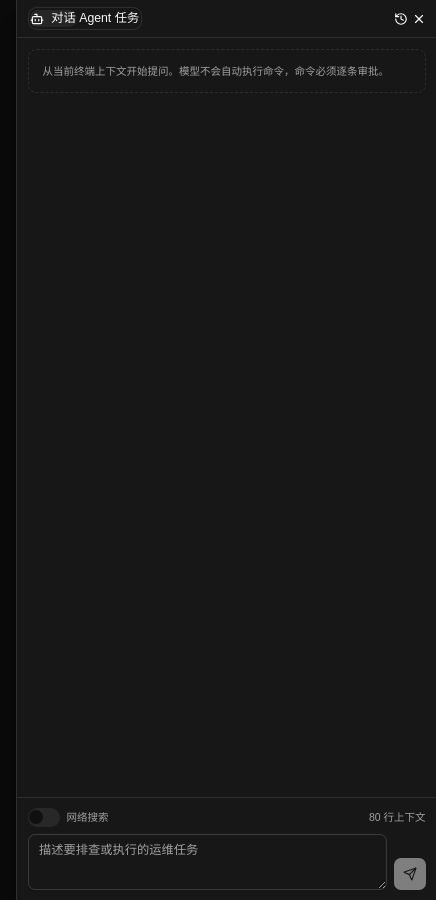
Scenario: AITerminalPanel cross-panel conversations › does not let a late answer overwrite a newly selected conversation
Click the button named "对话历史".
click(401, 18)  # box [394, 12, 408, 26]
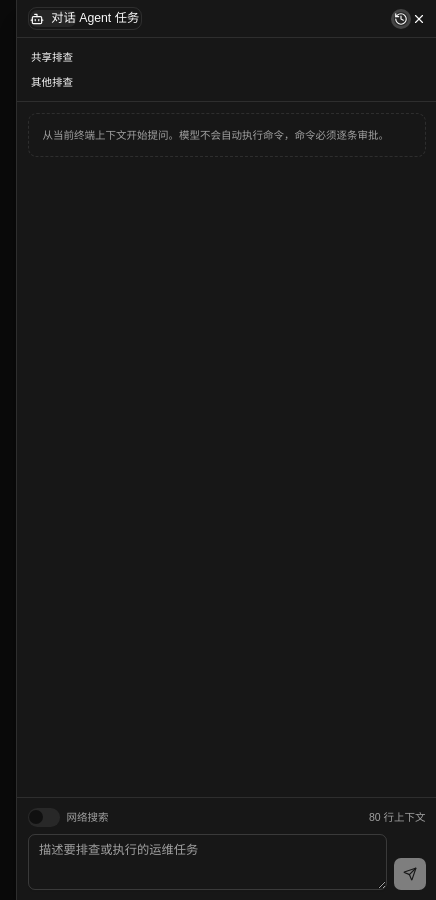
Click the button "共享排查".
click(52, 57)  # box [24, 45, 429, 70]
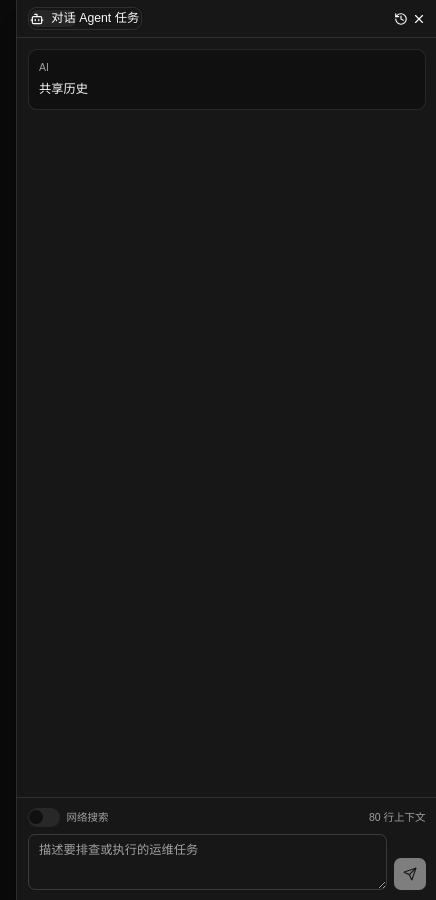
Type "保持后台发送" into the text box with placeholder "描述要排查或执行的运维任务".
click(207, 862); type("保持后台发送")  # box [28, 834, 387, 890]
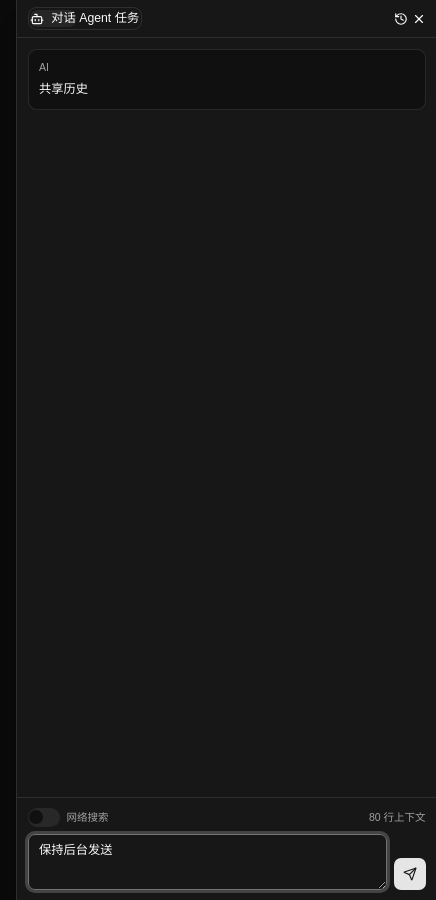
Click the button named "发送问题".
click(410, 874)  # box [394, 858, 426, 890]
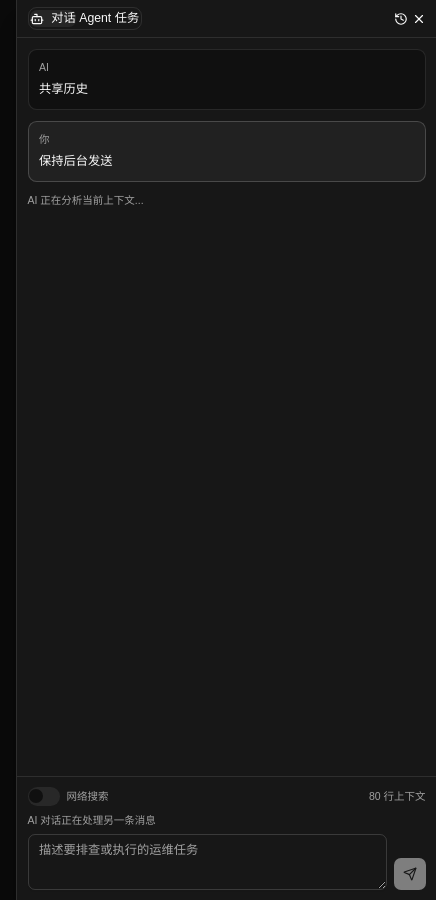
Click the button named "对话历史".
click(401, 18)  # box [394, 12, 408, 26]
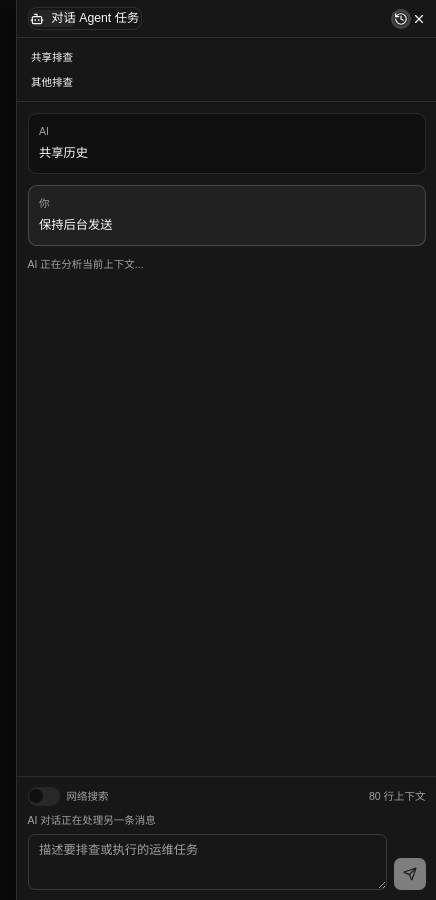
Click the button "其他排查".
click(52, 82)  # box [24, 70, 429, 94]
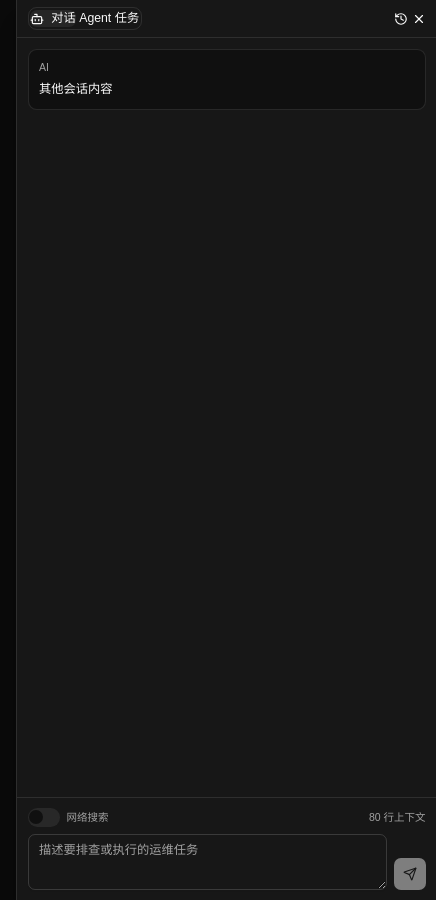
Result: the text "其他会话内容" is shown at [39, 82, 112, 96]
Result: the text "AI 正在分析当前上下文..." is gone
